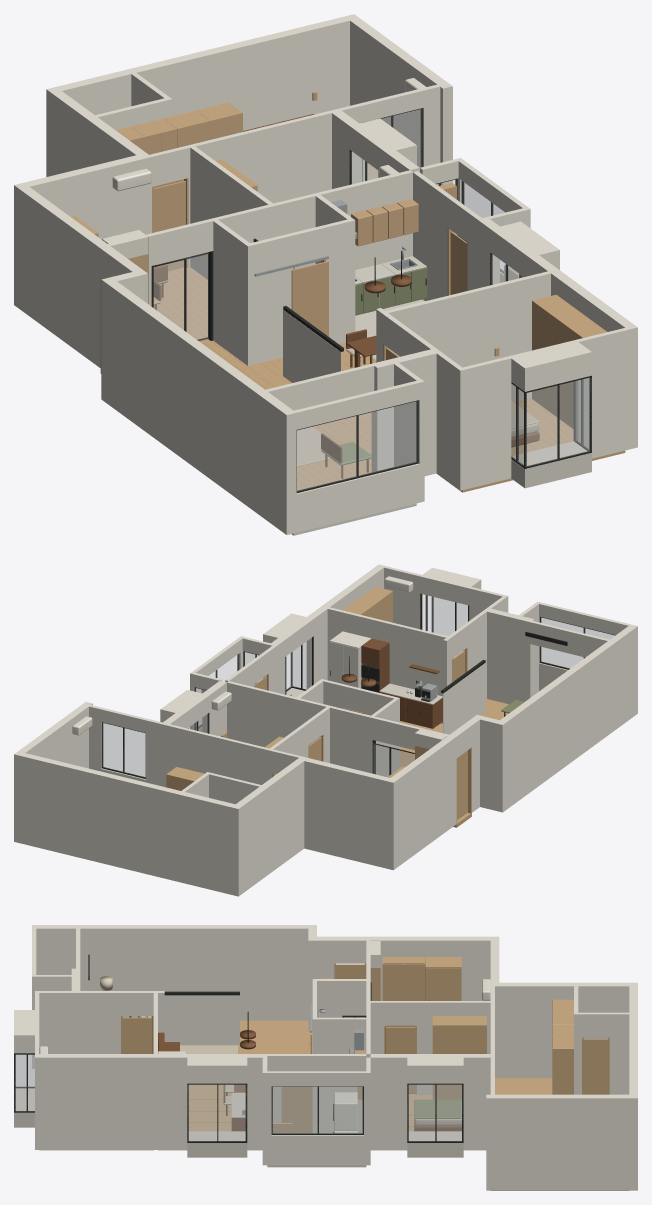
The model's file is whole_home_R10.5.glb.
3 renders of one model, top to bottom at view 1: azimuth 30°, elevation 25°; view 2: azimuth 150°, elevation 25°; view 3: azimuth 270°, elevation 25°, orthographic. The views are drawn at different scales.
Visible parts, largest first — view 1: wall_living_west_0, wall_A_north_0, wall_family_west_0, wall_CD_0, wall_A_south1_0, balconyA_south_glass, wall_family_north_0, wall_bath_kitchen_north_0, wall_A_east_0, wall_D_south1_0, wall_D_south2_0, balconyA_south_sill (+44 smaller); view 2: wall_A_north_0, wall_living_west_0, wall_family_north_0, wall_bath_kitchen_north_0, wall_A_west_0, wall_family_west_0, wall_A_south1_0, wall_CD_0, wall_balconyA_head2_0, wall_entry_step_0, wall_A_east_0, screen_fabric (+35 smaller); view 3: wall_living_west_0, wall_A_east_0, wall_D_east_0, wall_A_west_0, wall_D_west2_0, balconyB_east_glass, screen_fabric, wall_family_west_0, wall_B_east2_0, C_bay_east_glass, B_bay_east_glass, balconyB_east_sill (+48 smaller).
Part boxes in pixels (<box>): wall_living_west_0: <box>107,281,296,534</box>; wall_A_north_0: <box>46,14,358,176</box>; wall_family_west_0: <box>19,187,109,367</box>; wall_CD_0: <box>380,269,560,401</box>; wall_A_south1_0: <box>186,103,361,267</box>; balconyA_south_glass: <box>297,401,416,491</box>; wall_family_north_0: <box>14,155,151,308</box>; wall_bath_kitchen_north_0: <box>211,170,412,269</box>; wall_A_east_0: <box>348,16,452,185</box>; wall_D_south1_0: <box>463,356,511,489</box>; wall_D_south2_0: <box>576,328,628,458</box>; balconyA_south_sill: <box>296,463,419,532</box>; wall_A_north_0: <box>14,753,242,896</box>; wall_living_west_0: <box>500,624,637,808</box>; wall_family_north_0: <box>298,756,397,870</box>; wall_bath_kitchen_north_0: <box>227,681,374,773</box>; wall_A_west_0: <box>235,758,305,894</box>; wall_family_west_0: <box>391,735,456,866</box>; wall_A_south1_0: <box>146,719,273,787</box>; wall_CD_0: <box>321,605,447,723</box>; wall_balconyA_head2_0: <box>487,608,534,703</box>; wall_entry_step_0: <box>475,715,506,812</box>; wall_A_east_0: <box>16,702,92,768</box>; screen_fabric: <box>443,663,485,734</box>; wall_living_west_0: <box>32,925,308,1020</box>; wall_A_east_0: <box>486,1094,633,1190</box>; wall_D_east_0: <box>35,1054,153,1149</box>; wall_A_west_0: <box>495,982,633,1078</box>; wall_D_west2_0: <box>35,991,120,1053</box>; balconyB_east_glass: <box>272,1087,362,1133</box>; screen_fabric: <box>150,995,239,1045</box>; wall_family_west_0: <box>366,936,490,1000</box>; wall_B_east2_0: <box>370,1054,407,1149</box>; C_bay_east_glass: <box>189,1085,245,1141</box>; B_bay_east_glass: <box>409,1085,461,1141</box>; balconyB_east_sill: <box>271,1135,363,1165</box>.
Bounding box in the file's own units: 11.27 × 2.92 × 17.16.
